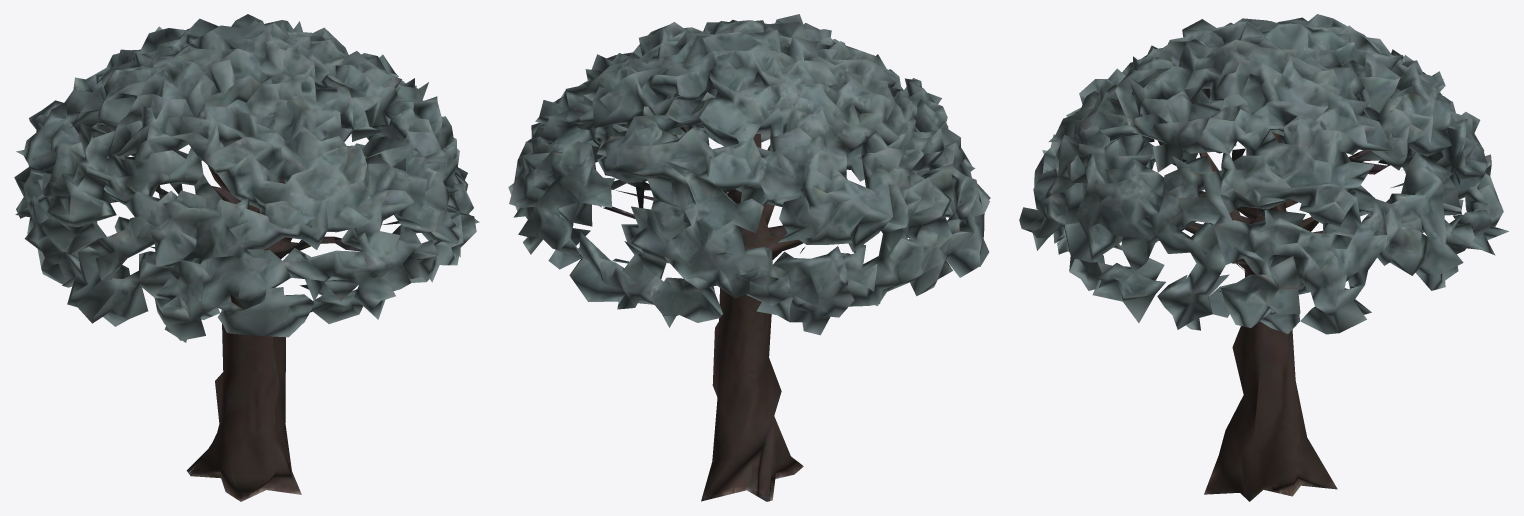
File: tree_shade-BxdYNxdl.glb
The picture shows the model from 3 angles, left to right: view 1: azimuth 30°, elevation 25°; view 2: azimuth 150°, elevation 25°; view 3: azimuth 270°, elevation 25°; orthographic projection. The views are drawn at different scales.
Parts seen in each view (by area): view 1: geom0; view 2: geom0; view 3: geom0.
Boxes of the visible parts, x1,y1,x2,y2 form: geom0: (14, 14, 479, 501); geom0: (508, 14, 990, 501); geom0: (1019, 14, 1508, 501).
Size of the model in its own units: 0.9737 by 1 by 0.9849.
Materials: 1 (1 with a texture image).
